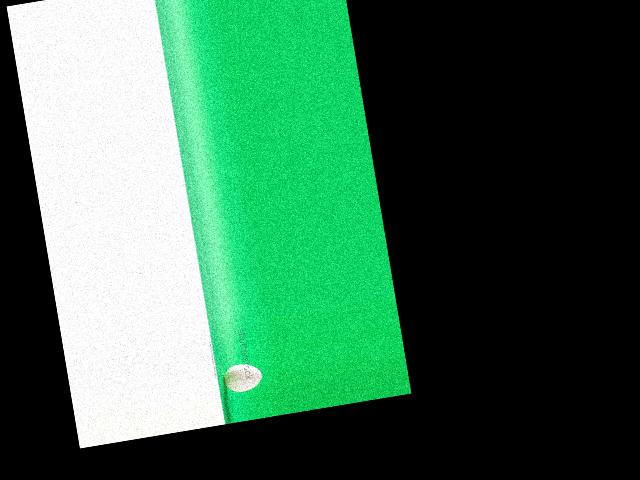egg: (221, 361, 263, 395)
